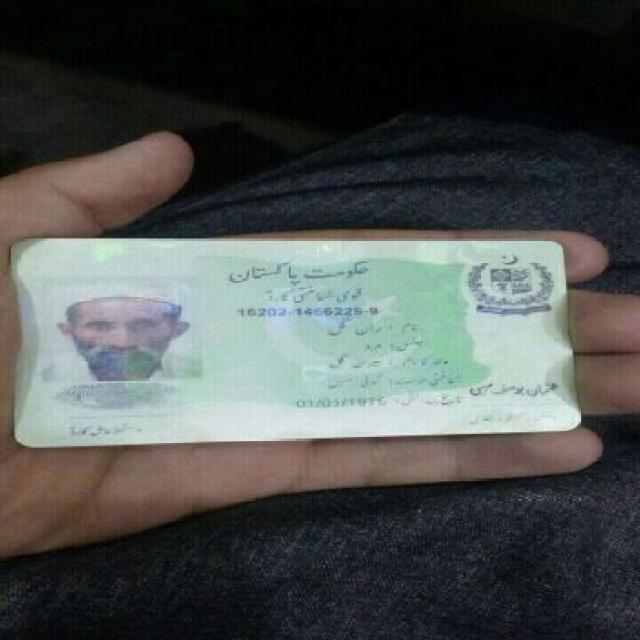Front: (12, 219, 600, 443)
